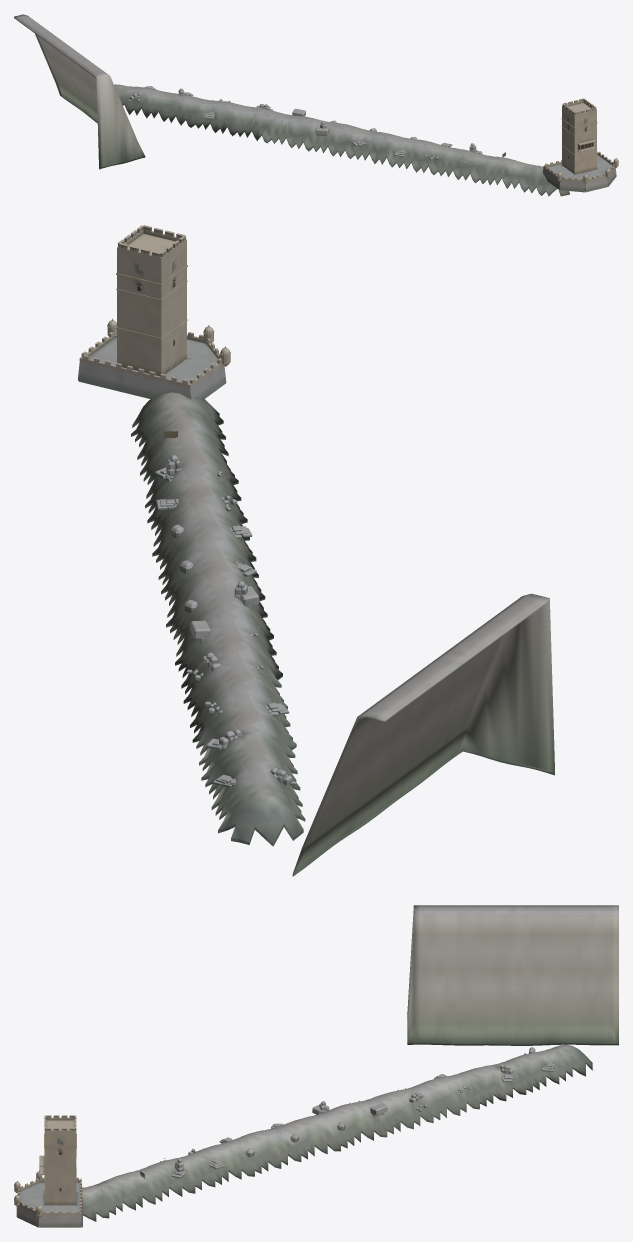
Rendered from fort.glb.
3 renders of one model, top to bottom at view 1: azimuth 30°, elevation 25°; view 2: azimuth 150°, elevation 25°; view 3: azimuth 270°, elevation 25°, orthographic. The views are drawn at different scales.
Visible parts, largest first — view 1: west_spit, fort_tower.001, fort_bastion.001; view 2: west_spit, fort_tower.001, fort_bastion.001; view 3: west_spit, fort_tower.001, fort_bastion.001.
Part boxes in pixels (x1,y1,x2,y2): west_spit: (14, 14, 569, 196); fort_tower.001: (561, 98, 597, 174); fort_bastion.001: (543, 151, 616, 192); west_spit: (131, 392, 554, 876); fort_tower.001: (116, 225, 187, 376); fort_bastion.001: (78, 332, 226, 399); west_spit: (82, 905, 618, 1221); fort_tower.001: (39, 1115, 76, 1205); fort_bastion.001: (16, 1177, 82, 1227).
Size of the model in its own units: 202 by 47.09 by 229.
